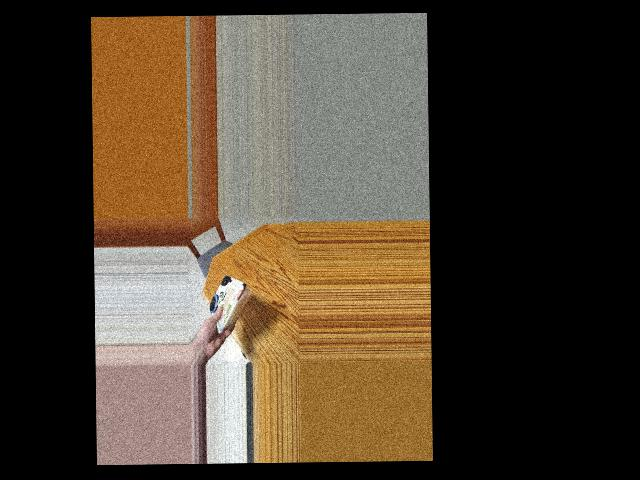cheese: (201, 277, 256, 324)
